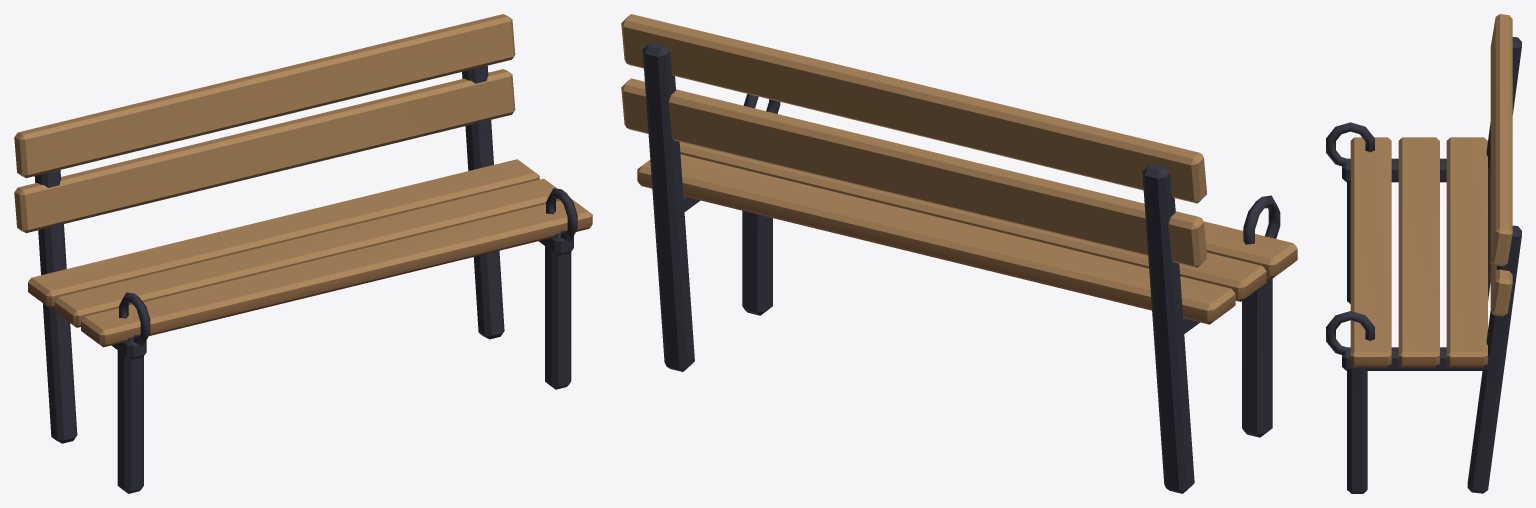
File: bench.glb
The picture shows the model from 3 angles, left to right: view 1: azimuth 30°, elevation 25°; view 2: azimuth 150°, elevation 25°; view 3: azimuth 270°, elevation 25°; orthographic projection. The views are drawn at different scales.
Parts seen in each view (by area): view 1: Bench; view 2: Bench; view 3: Bench.
Part boxes in pixels (x1,y1,x2,y2): Bench: (14, 14, 592, 493); Bench: (621, 14, 1297, 493); Bench: (1326, 14, 1521, 493).
Size of the model in its own units: 1.5 by 0.8864 by 0.5704.
